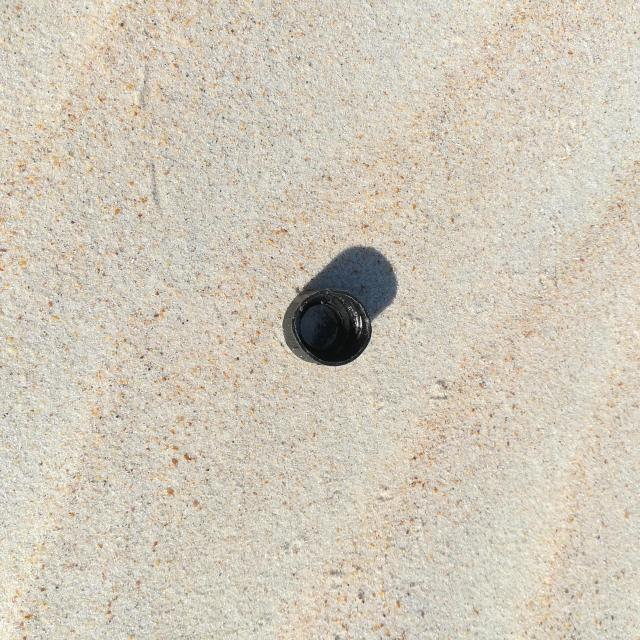litter: (284, 288, 373, 365)
